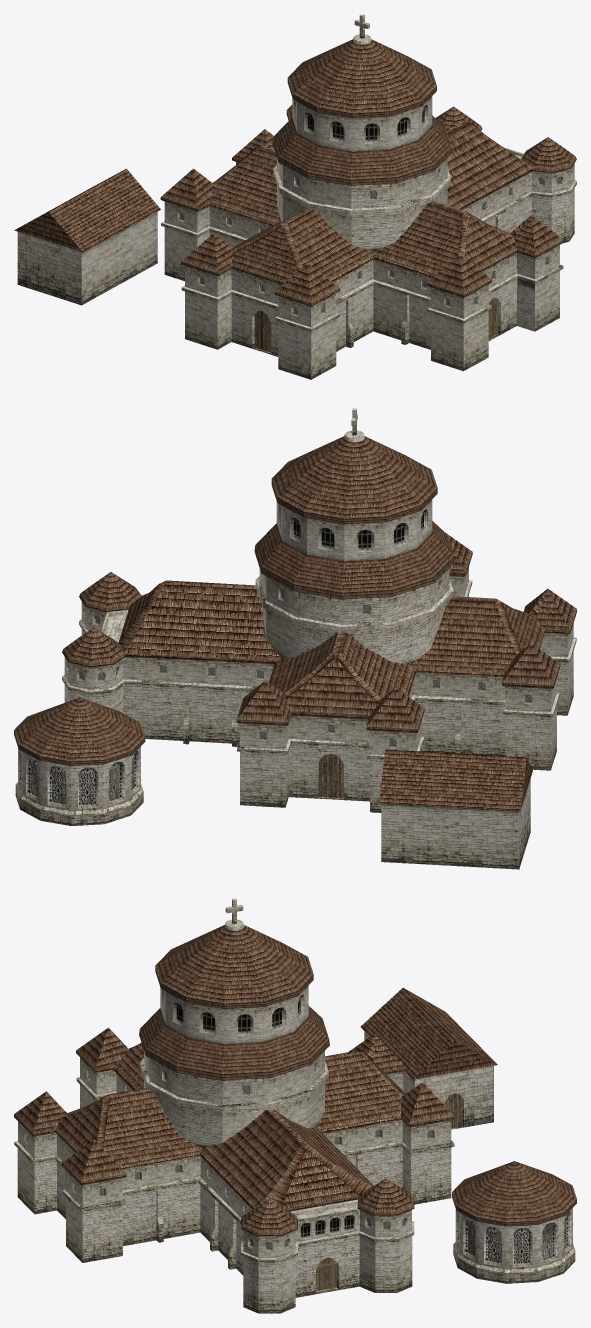
File: Igreja2.fbx
3 renders of one model, top to bottom at view 1: azimuth 30°, elevation 25°; view 2: azimuth 150°, elevation 25°; view 3: azimuth 270°, elevation 25°, orthographic. The views are drawn at different scales.
Visible parts, largest first — view 1: Igreja2; view 2: Igreja2; view 3: Igreja2.
Part boxes in pixels (x1=…): Igreja2: x1=14, y1=14, x2=576, y2=379; Igreja2: x1=14, y1=408, x2=576, y2=869; Igreja2: x1=14, y1=898, x2=576, y2=1313.
Bounding box in the file's own units: 7377 × 4186 × 7144.
